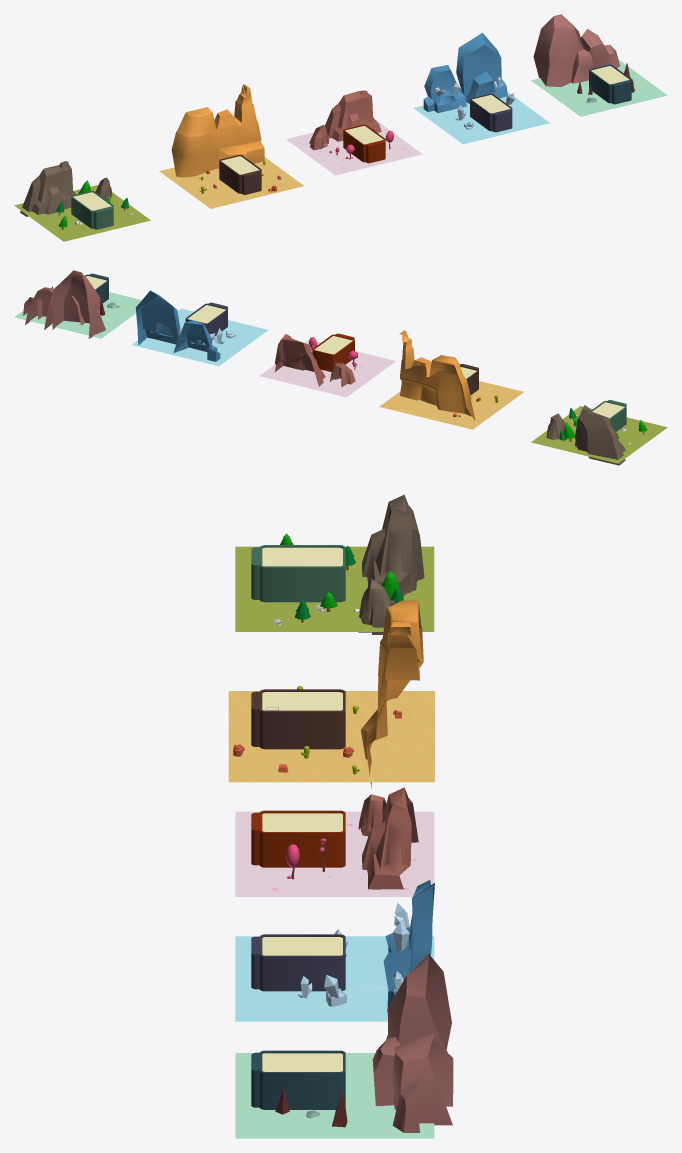
The model's file is MM_Map.fbx.
3 renders of one model, top to bottom at view 1: azimuth 30°, elevation 25°; view 2: azimuth 150°, elevation 25°; view 3: azimuth 270°, elevation 25°, orthographic. The views are drawn at different scales.
Parts seen in each view (by area): view 1: Play_area_4, Play_area5, Map_1_ground1, Map_2_ground, Ground_3, Map_1_ground, Map_1, Ground_5, Ground_4, Map_2, Play_area_3; view 2: Play_area_4, Play_area5, Map_2_ground, Ground_3, Map_1_ground1, Map_1_ground, Play_area_3, Ground_4, Map_2, Ground_5, Map_1; view 3: Play_area5, Ground_3, Map_2_ground, Map_1_ground, Play_area_4, Map_1, Ground_5, Map_2, Play_area_3, Ground_4, Map_1_ground1.
Part boxes in pixels (x1,y1,x2,y2): Play_area_4: (413,33,549,144); Play_area5: (531,14,667,116); Map_1_ground1: (171,84,264,177); Map_2_ground: (14,161,150,241); Ground_3: (286,90,422,175); Map_1_ground: (159,157,303,208); Map_1: (219,155,261,194); Ground_5: (589,64,631,104); Ground_4: (470,93,512,132); Map_2: (71,191,113,229); Play_area_3: (343,124,385,163); Play_area_4: (132,290,267,366); Play_area5: (14,270,141,338); Map_2_ground: (531,405,667,465); Ground_3: (259,334,395,397); Map_1_ground1: (399,330,475,420); Map_1_ground: (379,381,523,429); Play_area_3: (312,333,354,371); Ground_4: (185,302,227,335); Map_2: (591,400,626,431); Ground_5: (85,273,108,304); Map_1: (459,364,478,394); Play_area5: (235,954,453,1138); Ground_3: (235,787,434,896); Map_2_ground: (235,494,434,634); Map_1_ground: (228,686,434,782); Play_area_4: (235,880,434,1021); Map_1: (251,689,345,749); Ground_5: (251,1050,345,1109); Map_2: (251,545,345,602); Play_area_3: (251,810,345,867); Ground_4: (251,934,345,991); Map_1_ground1: (360,600,423,788).
Size of the model in its own units: 387 by 47.78 by 62.43.
Materials: 6 (6 with a texture image).
